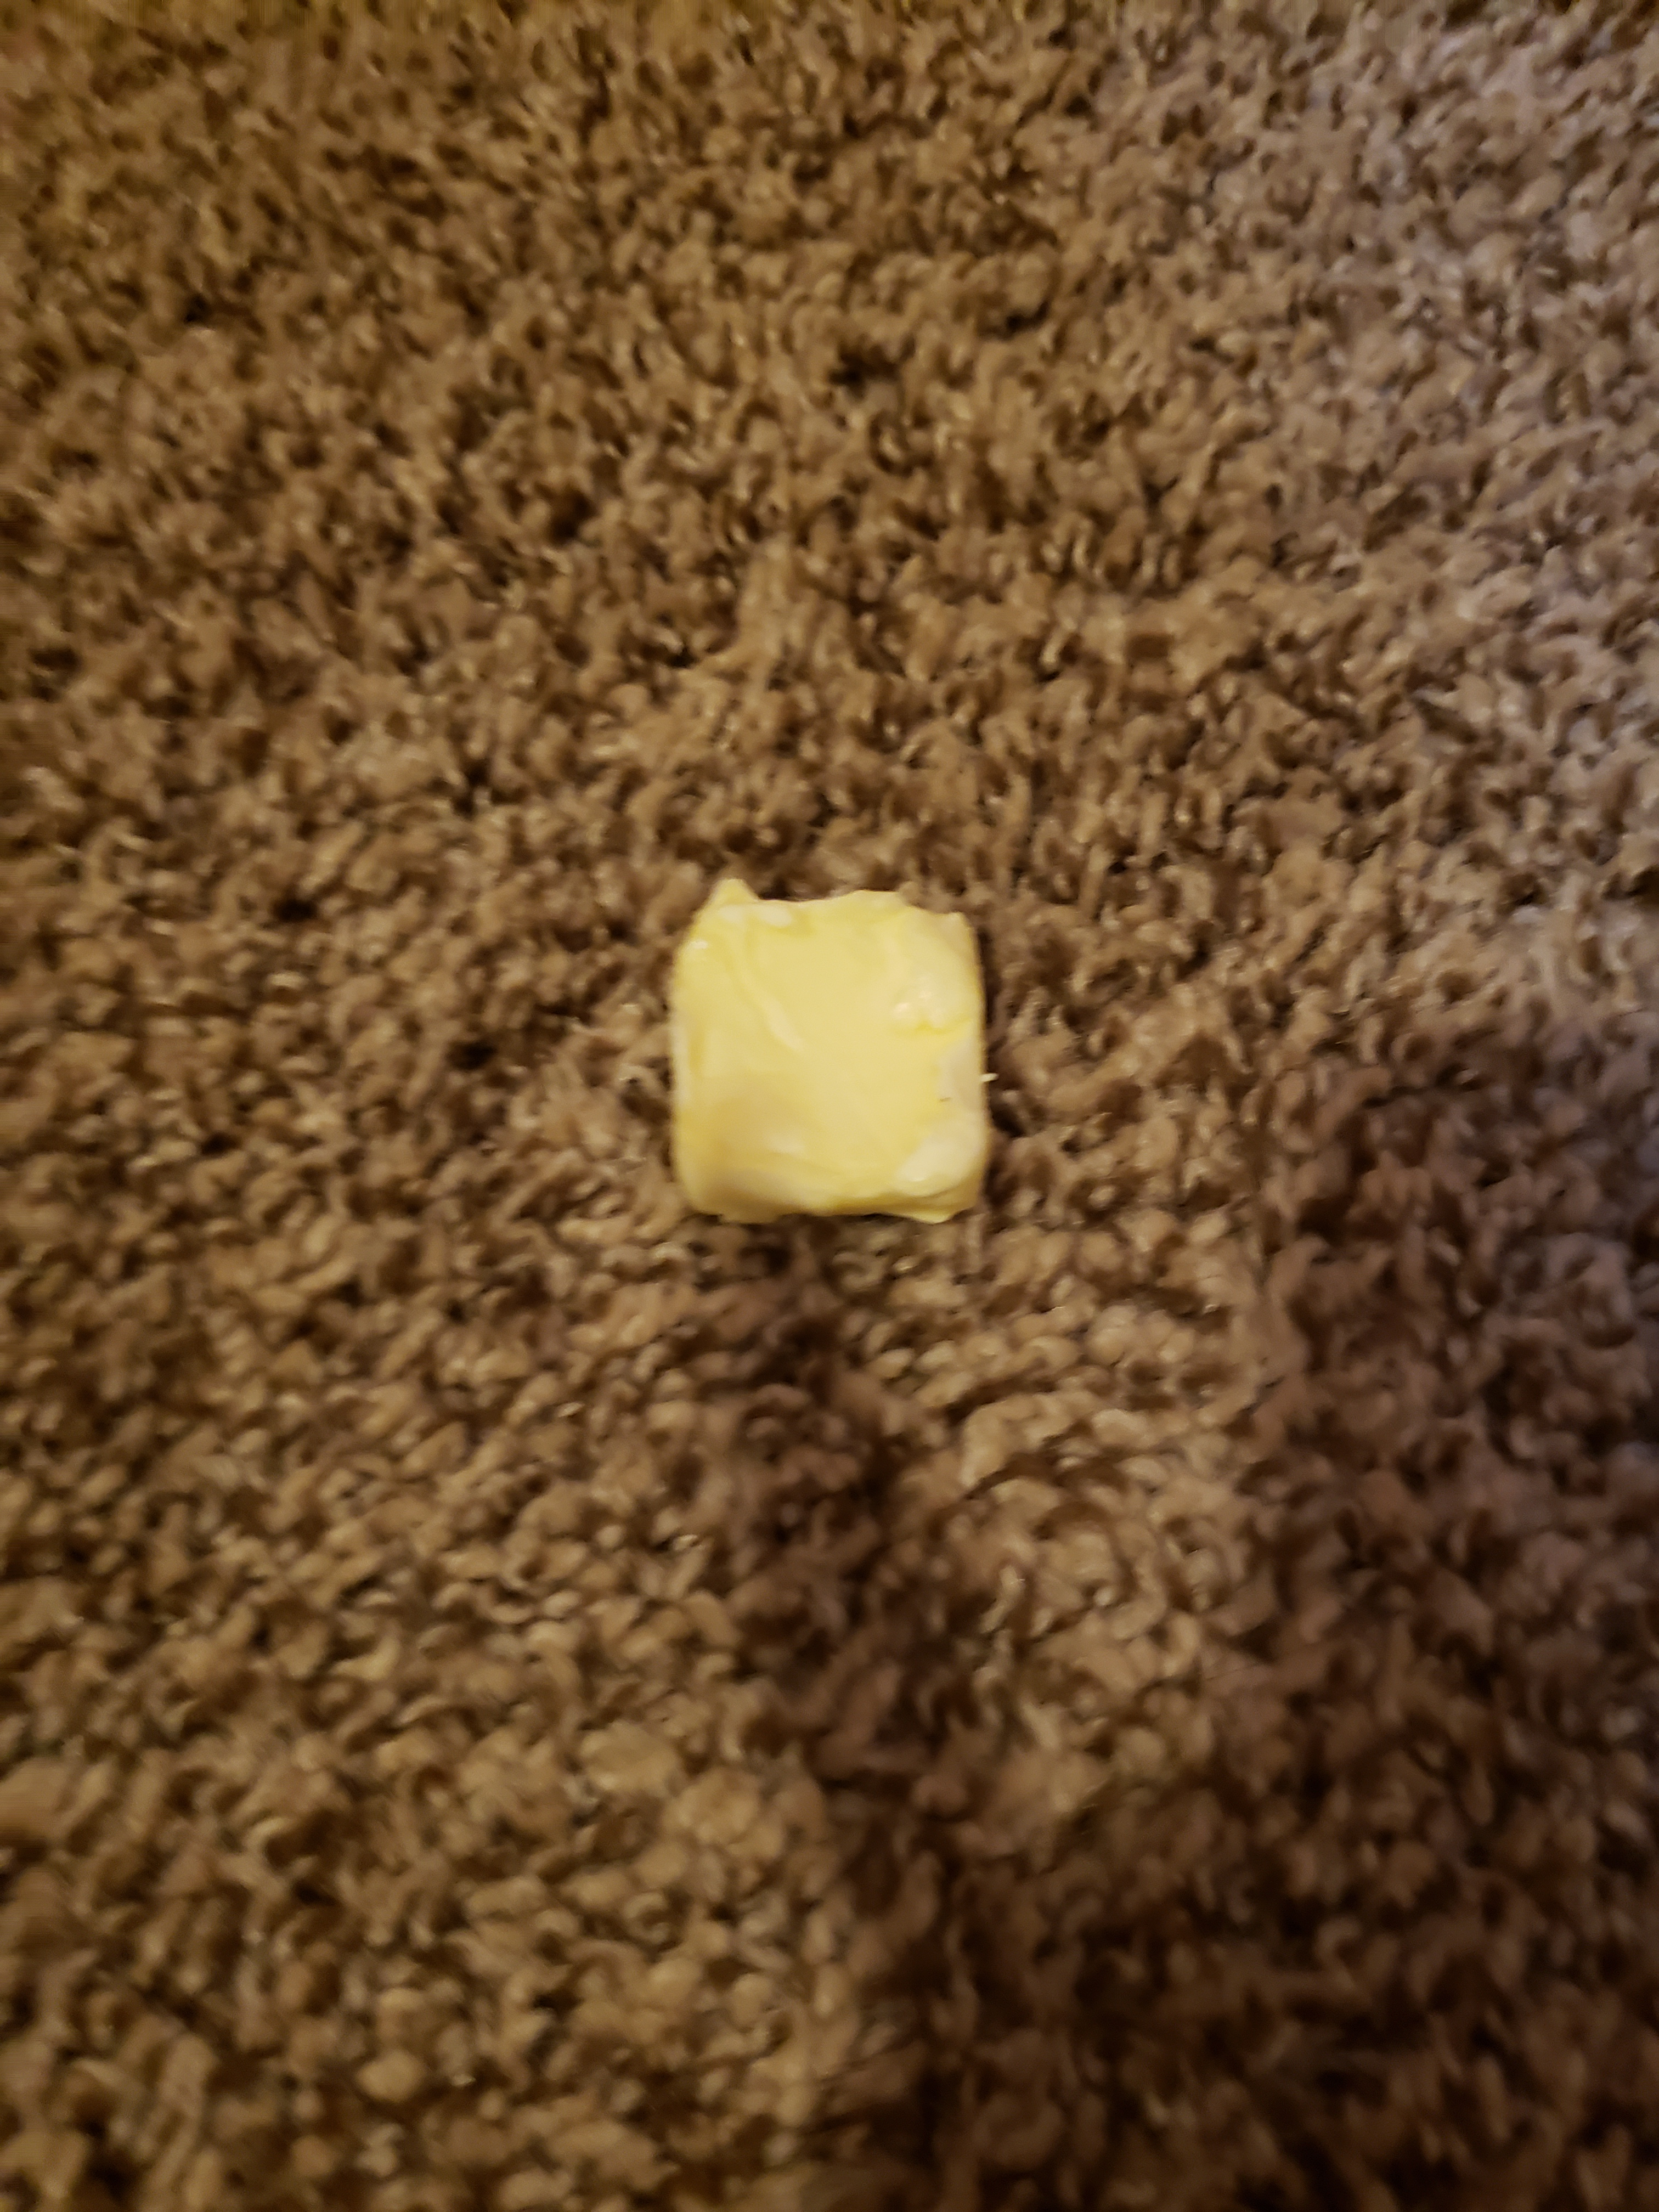Butter: (667, 892, 990, 1221)
